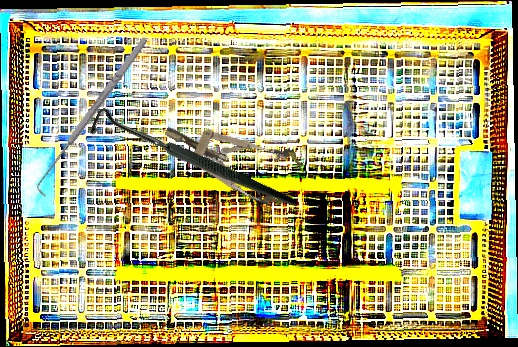Hook Surgical: (82, 48, 299, 279), (30, 34, 156, 198)
Speculum: (154, 102, 307, 212)
